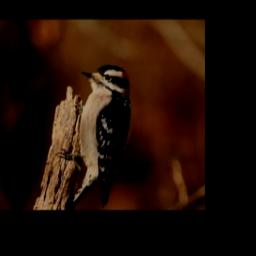Woodpecker: (55, 60, 132, 207)
